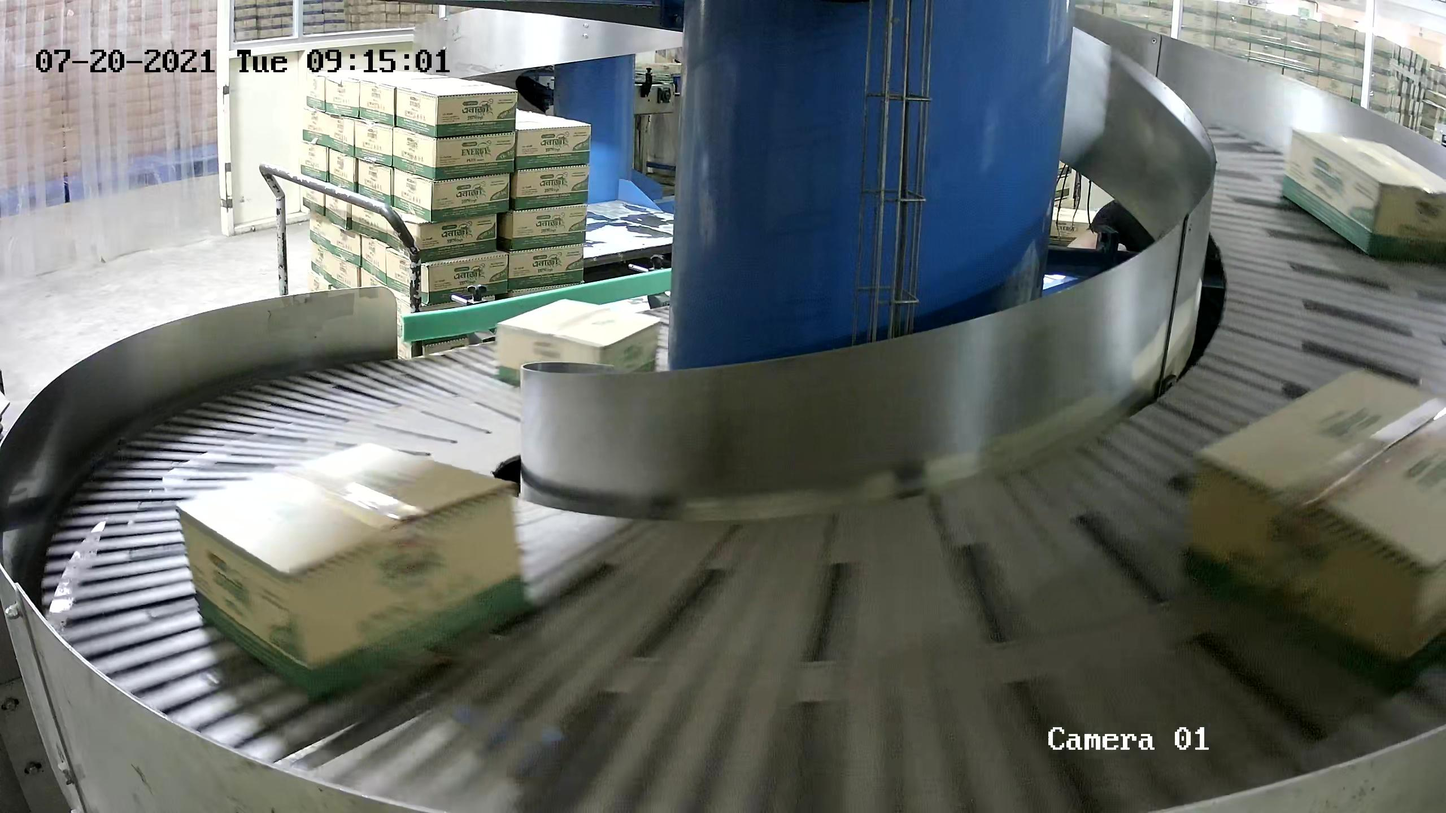Box: (174, 439, 531, 700), (1181, 363, 1446, 700), (1280, 126, 1446, 261), (495, 297, 662, 390)
